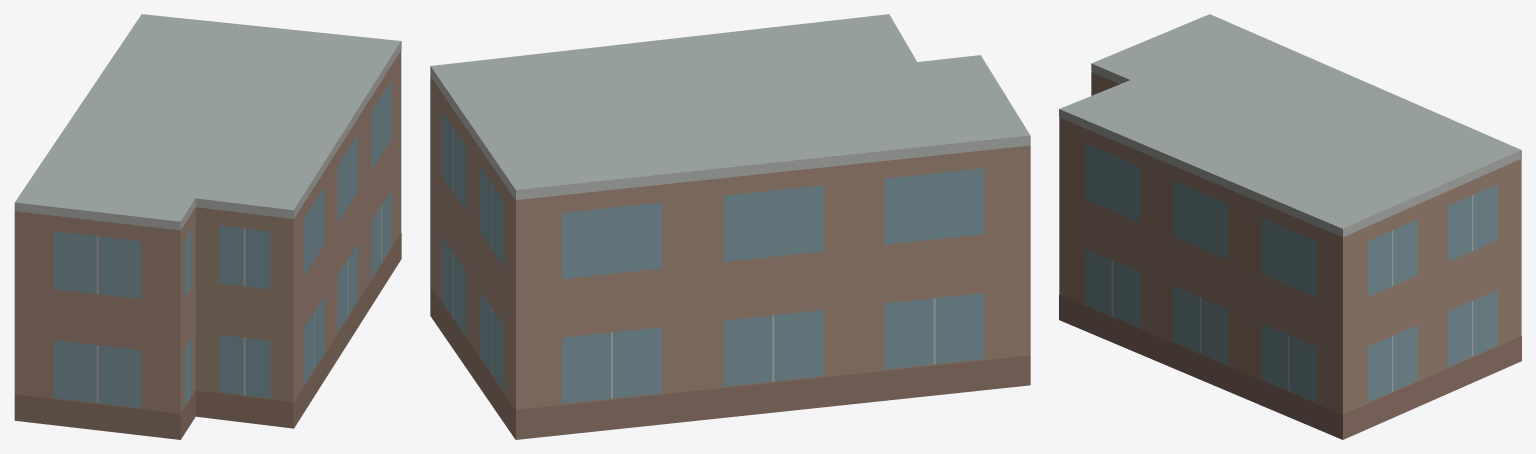
Rendered from survey-upis-32568351.glb.
The picture shows the model from 3 angles, left to right: view 1: azimuth 30°, elevation 25°; view 2: azimuth 150°, elevation 25°; view 3: azimuth 270°, elevation 25°; orthographic projection. The views are drawn at different scales.
Parts seen in each view (by area): view 1: survey-upis-32568351.tmp; view 2: survey-upis-32568351.tmp; view 3: survey-upis-32568351.tmp.
Boxes of the visible parts, <box> form: survey-upis-32568351.tmp: <box>14,14,401,439</box>; survey-upis-32568351.tmp: <box>430,14,1030,439</box>; survey-upis-32568351.tmp: <box>1059,14,1521,439</box>.
Size of the model in its own units: 13.34 by 6.1 by 12.13.
